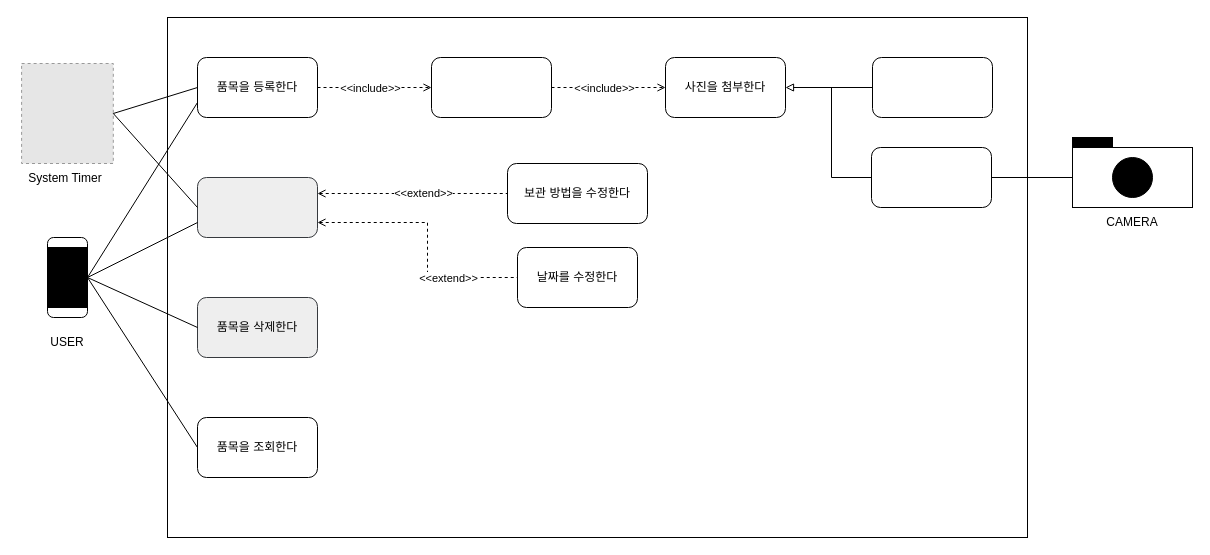
This 1210x555 diagram has some shape labels left out. Grey dashed boxes stand in for pictures. The shapes that lost their labels are listed below. From the top down, each one's centre as x and y in pixels, then its label:
At [491,87]: "텍스트를 추출한다 (OCR)".
At [932,87]: "갤러리에서 사진을 첨부한다".
At [931,177]: "카메라로 촬영하여 사진을 첨부한다".
At [257,207]: "품목을 수정한다".
